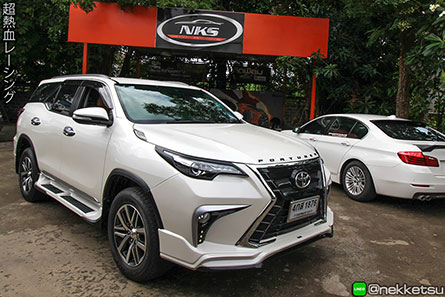pickup: (13, 74, 336, 285)
